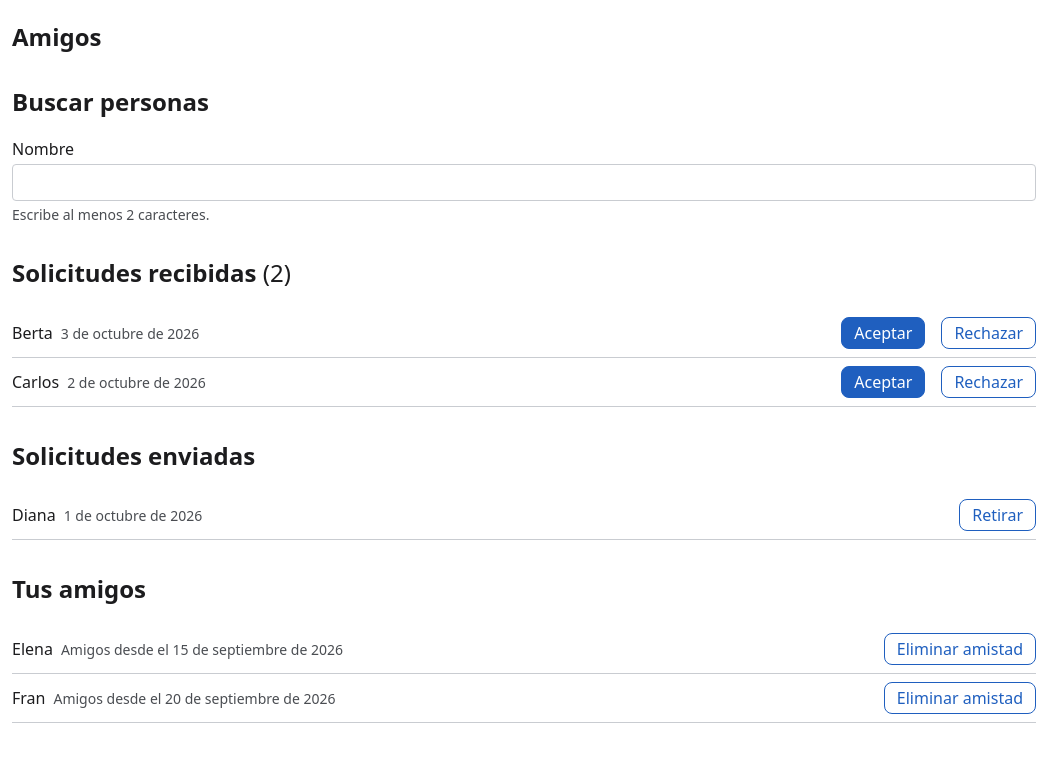
Test case: AmigosComponent › rechazar › envía POST, quita la fila, baja el contador, avisa y recarga
The image size is (1048, 768).
Click the button "Rechazar" in the row of "Carlos": (989, 382) [941,366,1036,398]
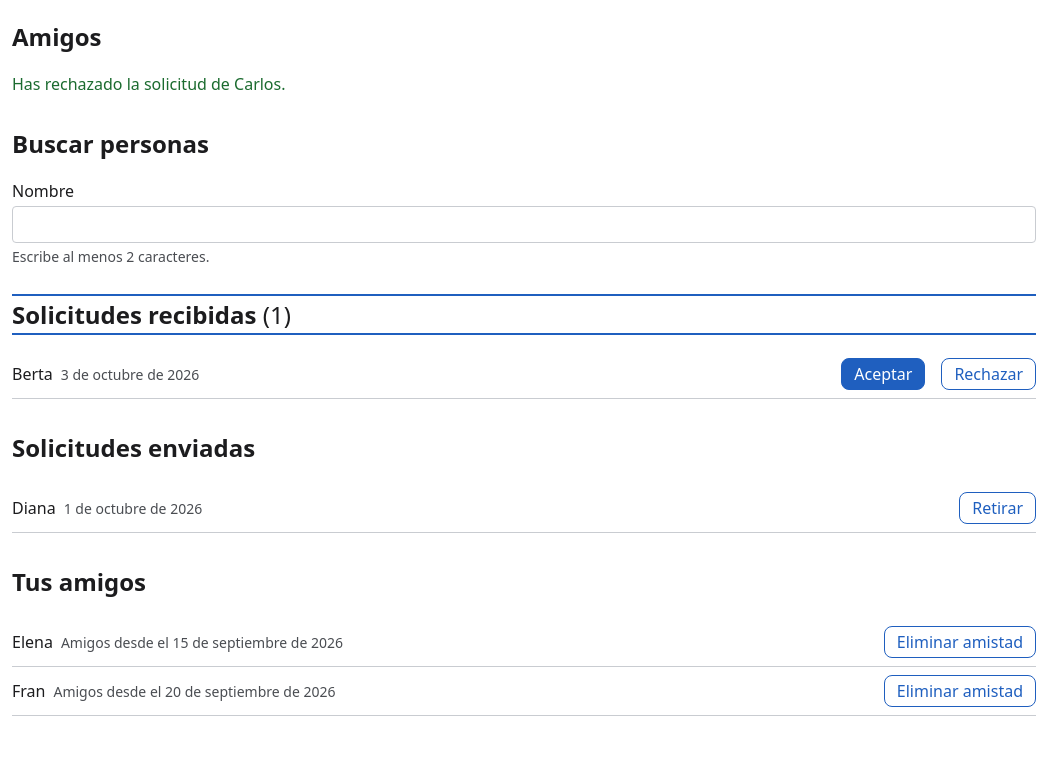
Now the text with class "exito" shows "Has rechazado la solicitud de Carlos", box [12,73,286,95]
